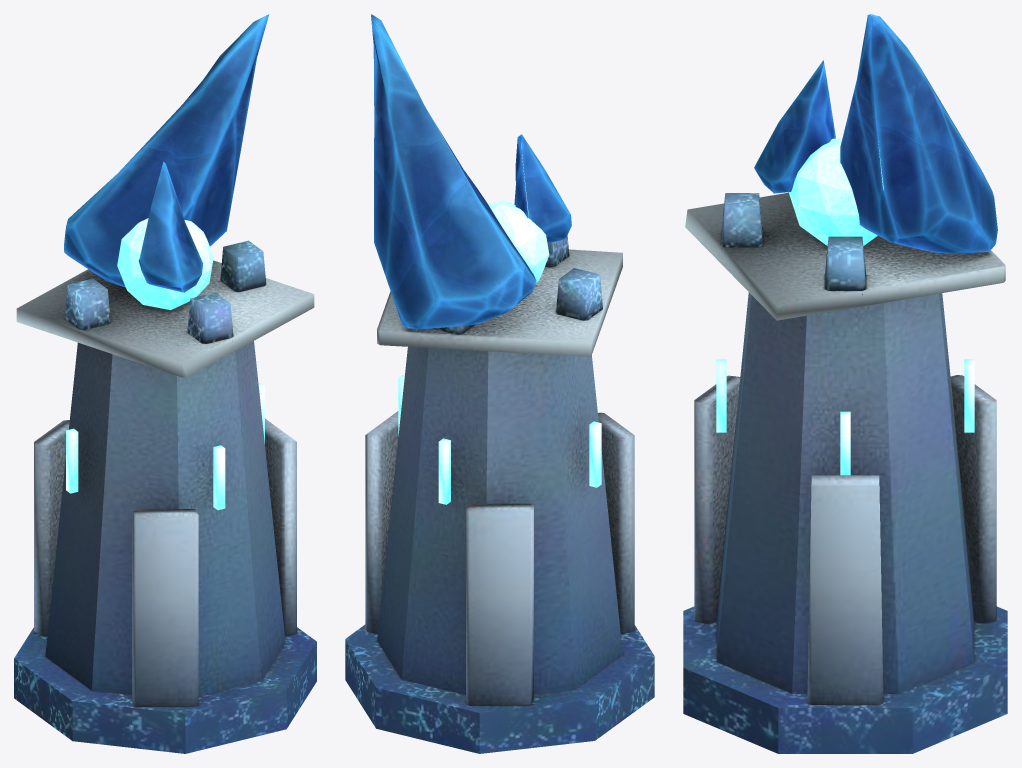
The model's file is tower2_frost.glb.
3 views of the same model, side by side, from view 1: azimuth 30°, elevation 25°; view 2: azimuth 150°, elevation 25°; view 3: azimuth 270°, elevation 25° (orthographic). The views are drawn at different scales.
Visible parts, largest first — view 1: tower2_frost; view 2: tower2_frost; view 3: tower2_frost.
Boxes of the visible parts, x1,y1,x2,y2 form: tower2_frost: (14,14,316,753); tower2_frost: (345,14,654,753); tower2_frost: (683,14,1007,753).
Size of the model in its own units: 3.83 by 9.59 by 3.83.
Materials: 2 (2 with a texture image).
